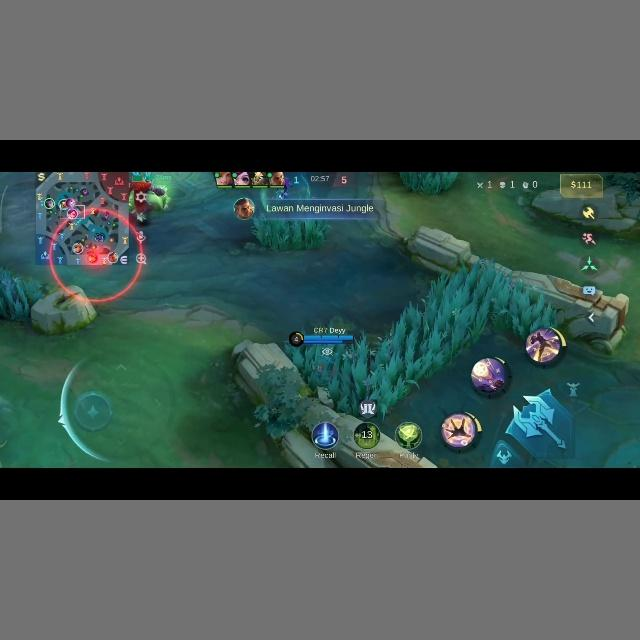hero_self: (129, 176, 167, 221), (306, 352, 346, 389)
hp_self: (286, 331, 355, 346)
